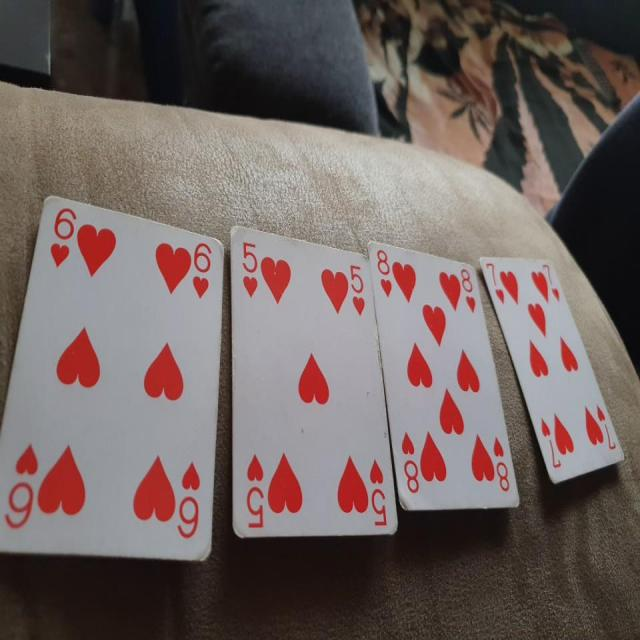5 Hearts: (230, 220, 400, 545)
6 Hearts: (1, 182, 229, 553)
7 Hearts: (478, 243, 626, 486)
8 Hearts: (364, 237, 525, 522)
